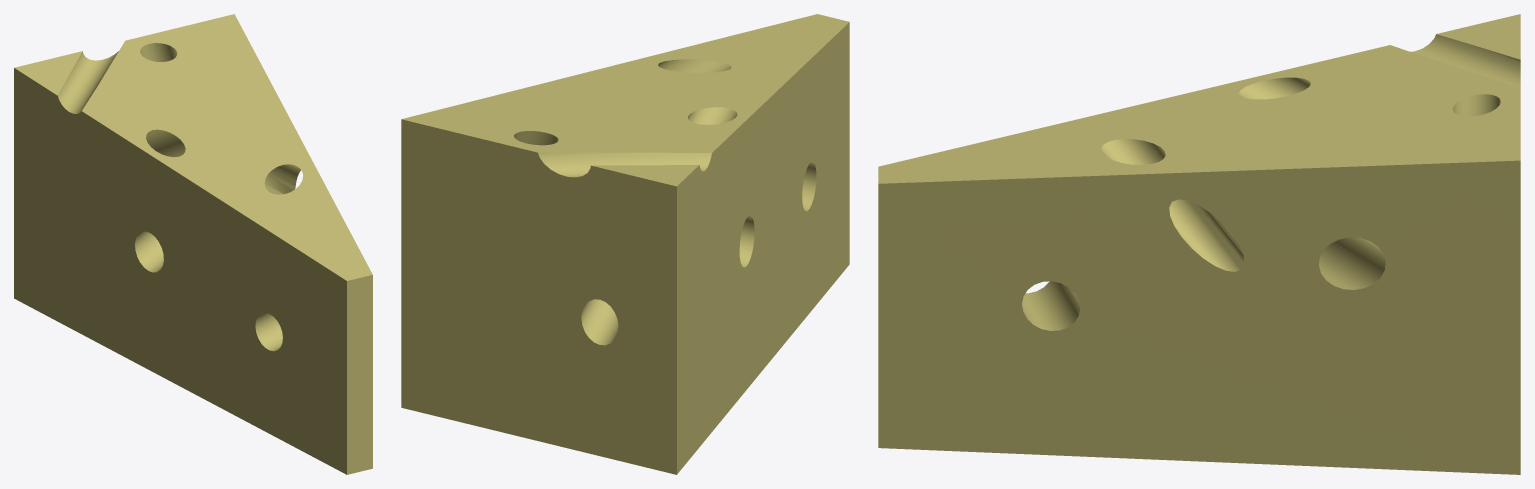
The model's file is Cheese.fbx.
The picture shows the model from 3 angles, left to right: view 1: azimuth 30°, elevation 25°; view 2: azimuth 150°, elevation 25°; view 3: azimuth 270°, elevation 25°; orthographic projection. The views are drawn at different scales.
Parts seen in each view (by area): view 1: Cheese; view 2: Cheese; view 3: Cheese.
Part boxes in pixels (bbox=[...]): Cheese: bbox=[14, 14, 372, 474]; Cheese: bbox=[401, 14, 849, 474]; Cheese: bbox=[878, 14, 1520, 474].
Size of the model in its own units: 6.13 by 6.87 by 11.35.
